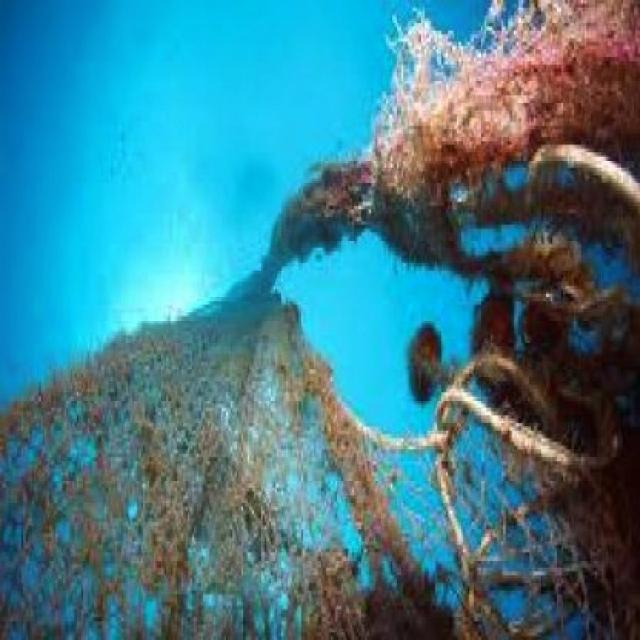net: (8, 34, 621, 640)
